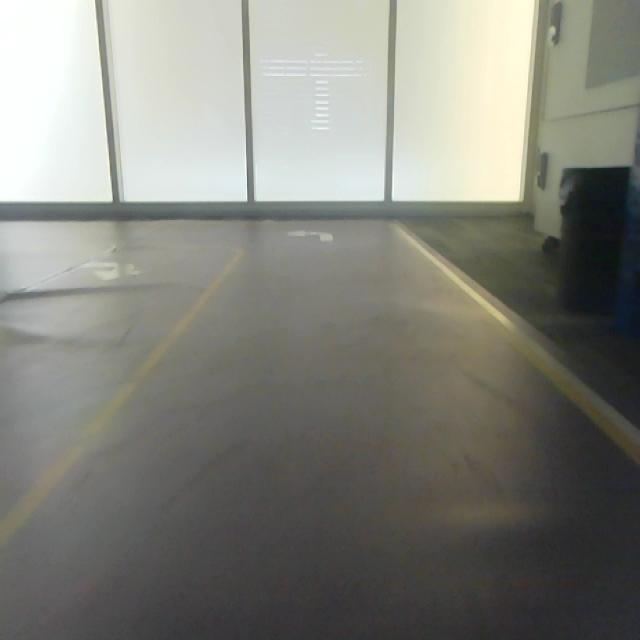left_lane: (0, 251, 240, 553)
right_lane: (392, 228, 640, 468)
